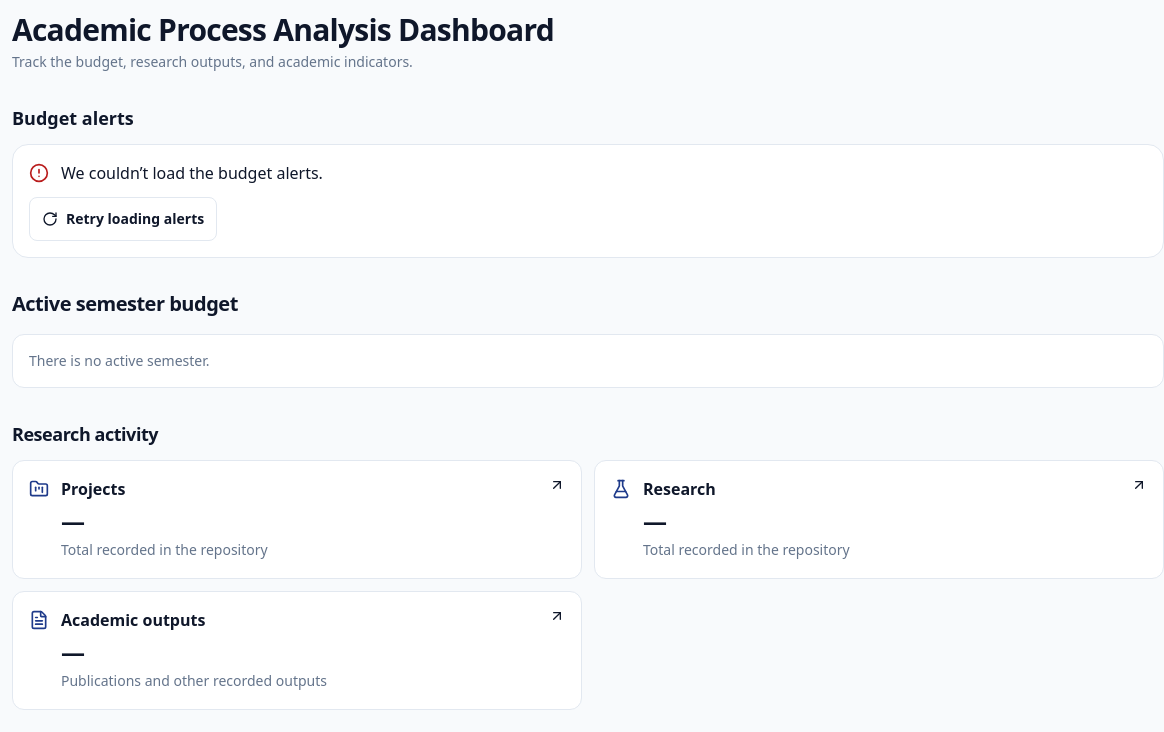
Test: Dashboard budget alerts › offers an English retry after a failed request and shows localized allocations on success
Expected: the message reads "We couldn’t load the budget alerts.", [61,162,323,184]
Click the button "Retry loading alerts" at (123, 219), box [29,197,217,241]
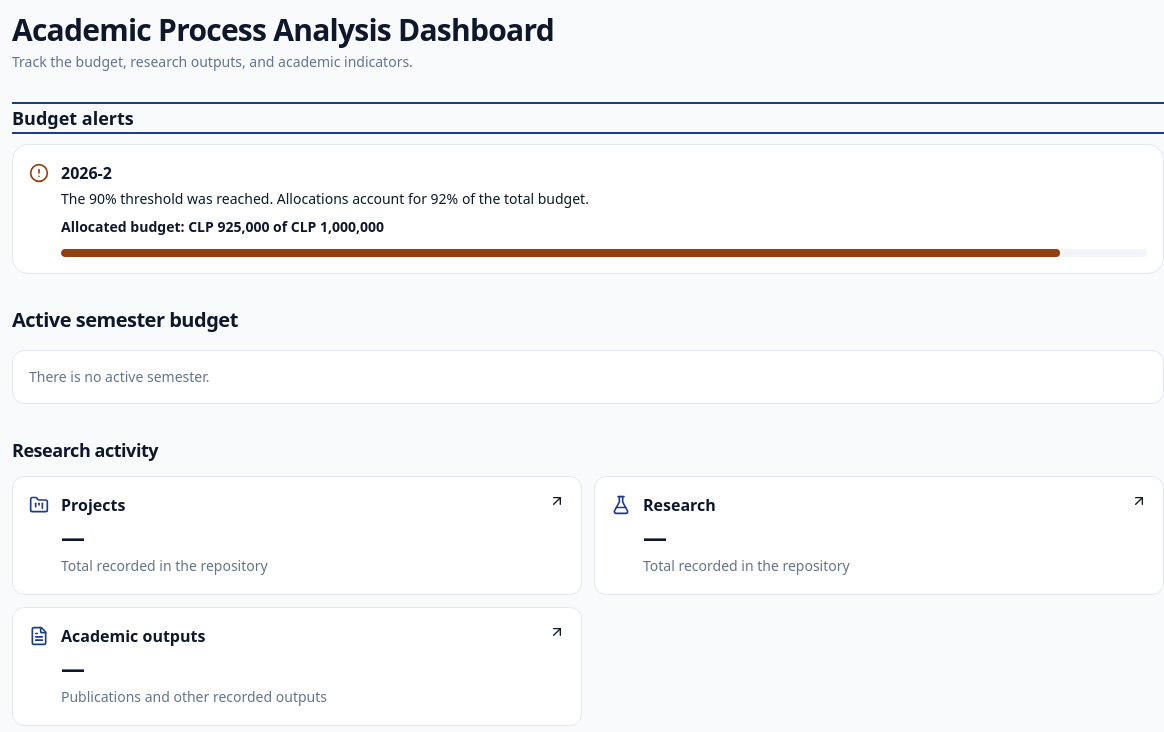
Expected: the text "Allocated budget: CLP 925,000 of CLP 1,000,000" is shown, [61,217,384,236]
